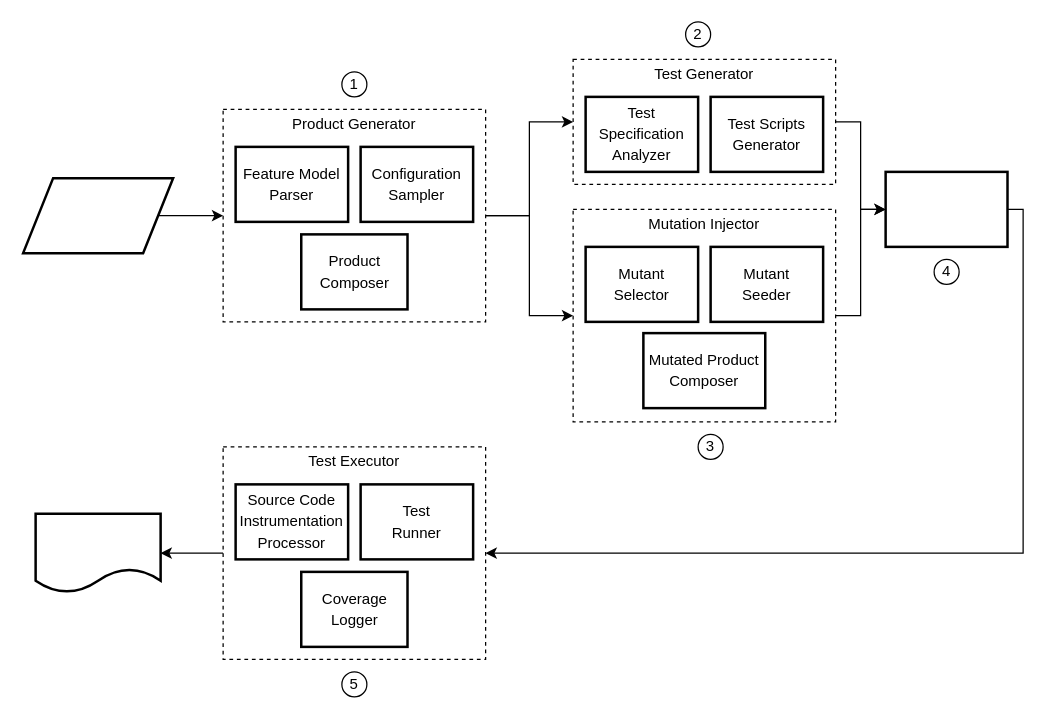
Image size: 1055x719. Some labels were removed from this diagram. Each missing label, with the box of its shape:
Product-Test Linker: (884, 170, 1008, 248)
SPL Project: (21, 176, 174, 254)
Test Report: (34, 512, 161, 593)
